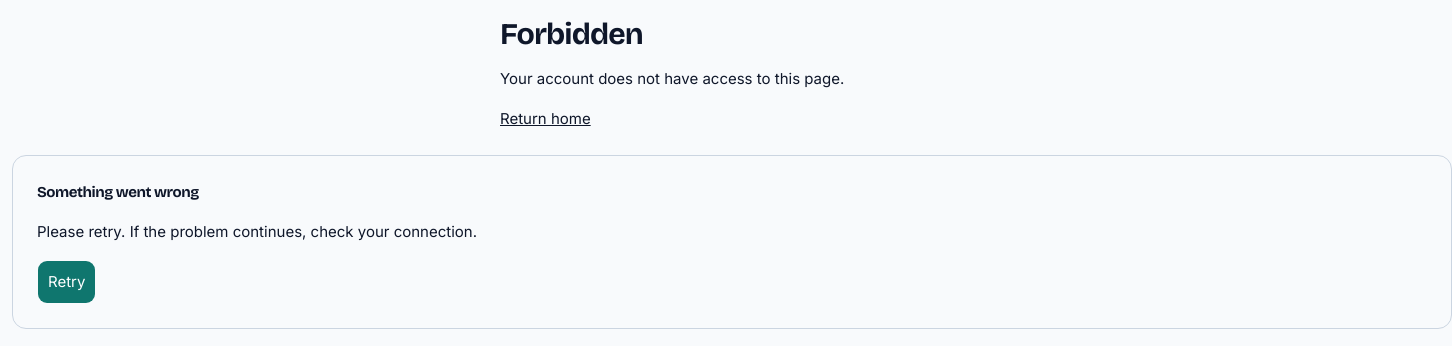
Phase F8 hardening, accessibility, states, and error checks › handles 401 expiry, 403 forbidden role route, 429 Retry-After, and ErrorFallback retry cleanly
This screenshot has width=1452, height=346.
Expected: the heading "Forbidden" is shown, [500,16,643,52]
Expected: the message shows "Please retry", [37,222,477,240]
Click the button "Retry".
click(67, 282)  # box [37,260,96,304]
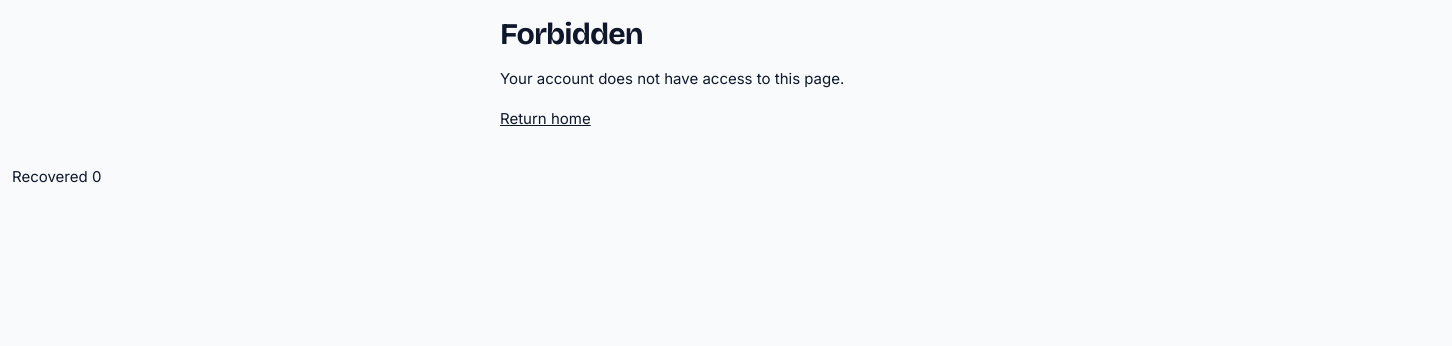
Result: the button "Recovered 0" is shown at [12,154,101,198]
